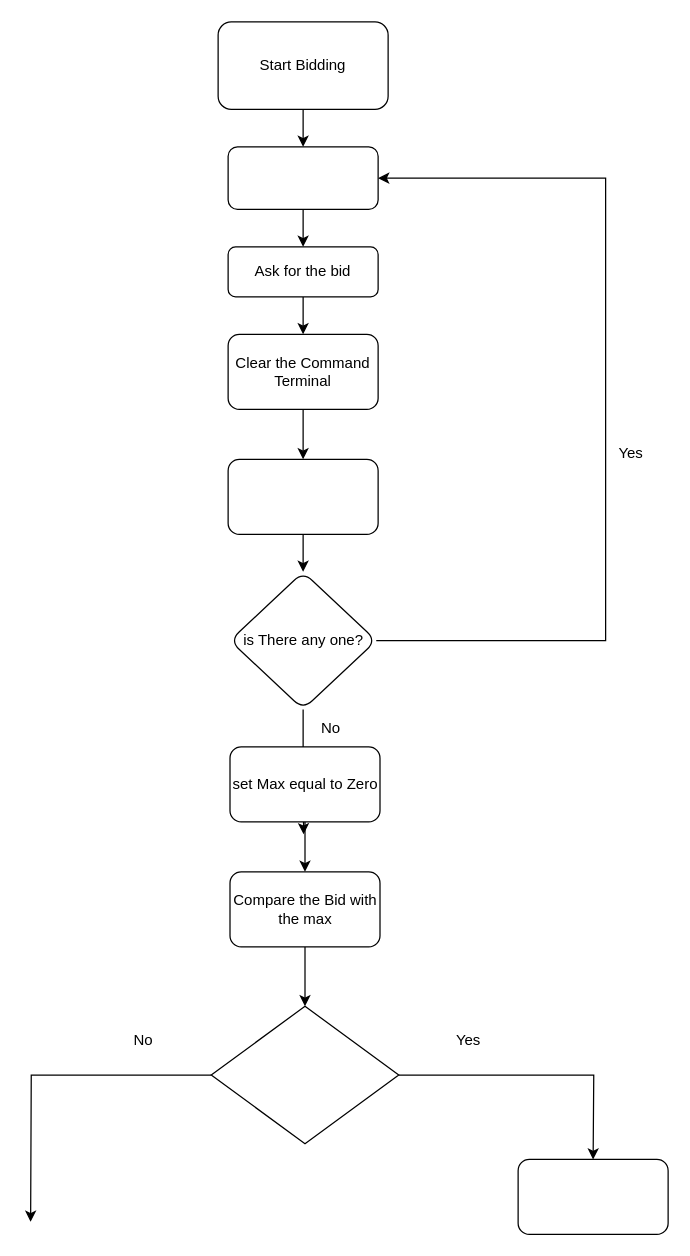
Image size: 690x1256. Some labels were removed from this diagram. Each missing label, with the centre of its shape:
"Ask for the Name" goes at (x=302, y=177).
"is it higher than the max" goes at (x=304, y=1074).
"Save it in the Dictionary" goes at (x=302, y=496).
